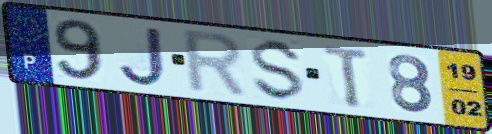8: (386, 54, 435, 115)
9: (52, 17, 106, 83)
J: (116, 24, 169, 88)
R: (182, 28, 251, 101)
S: (249, 37, 308, 104)
T: (321, 43, 372, 109)
